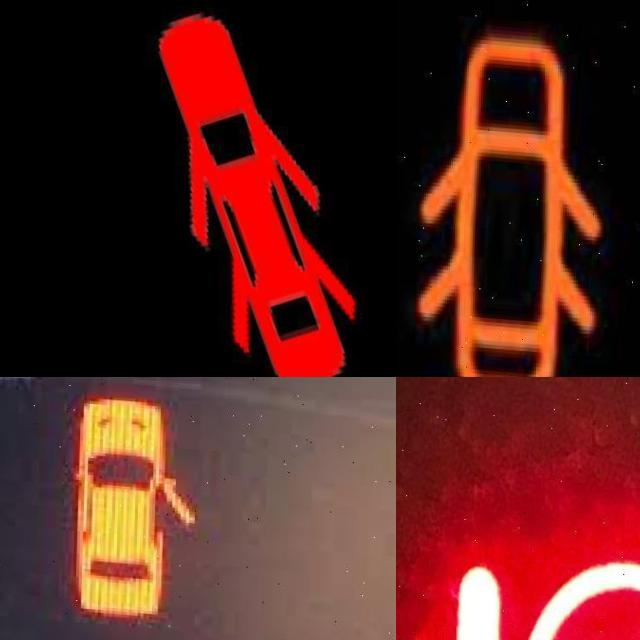Electronic Power Steering Warning: (451, 543, 640, 640)
